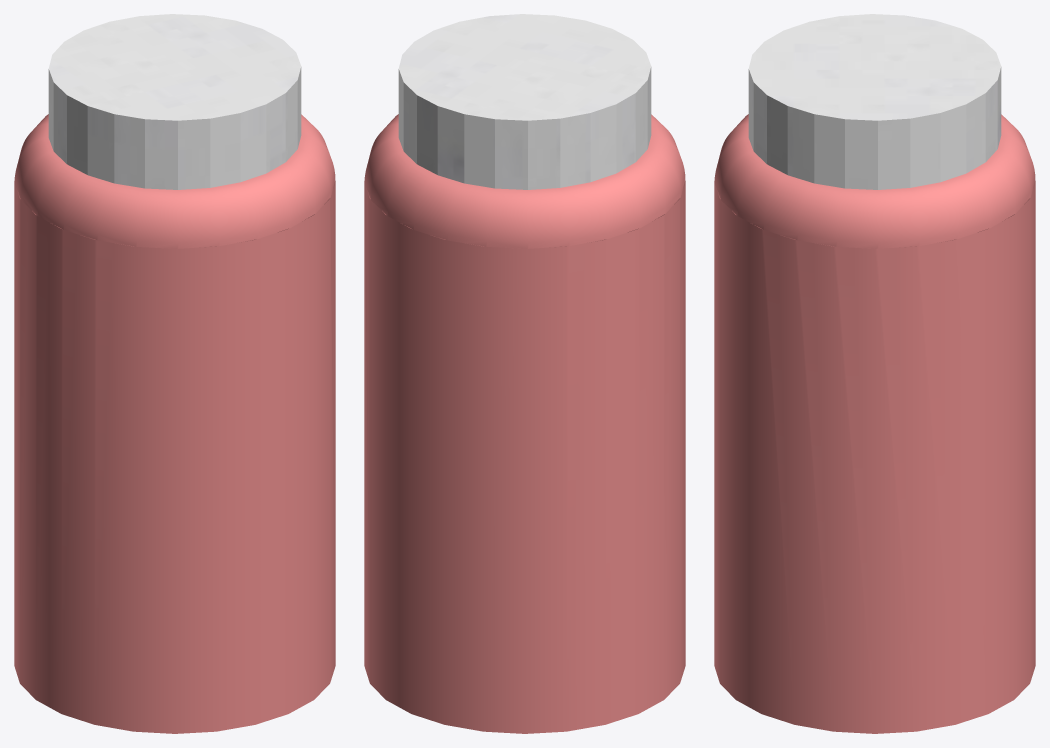
File: RemedioRosa.dae
The picture shows the model from 3 angles, left to right: view 1: azimuth 30°, elevation 25°; view 2: azimuth 150°, elevation 25°; view 3: azimuth 270°, elevation 25°; orthographic projection.
Visible parts, largest first — view 1: instance_0 (×2); view 2: instance_0 (×2); view 3: instance_0 (×2).
Boxes of the visible parts, x1,y1,x2,y2 form: instance_0 (×2): (14, 14, 335, 733); instance_0 (×2): (364, 14, 685, 733); instance_0 (×2): (714, 14, 1035, 733).
Bounding box in the file's own units: 1.81 × 1.81 × 3.73.
Materials: 2 (1 with a texture image).
